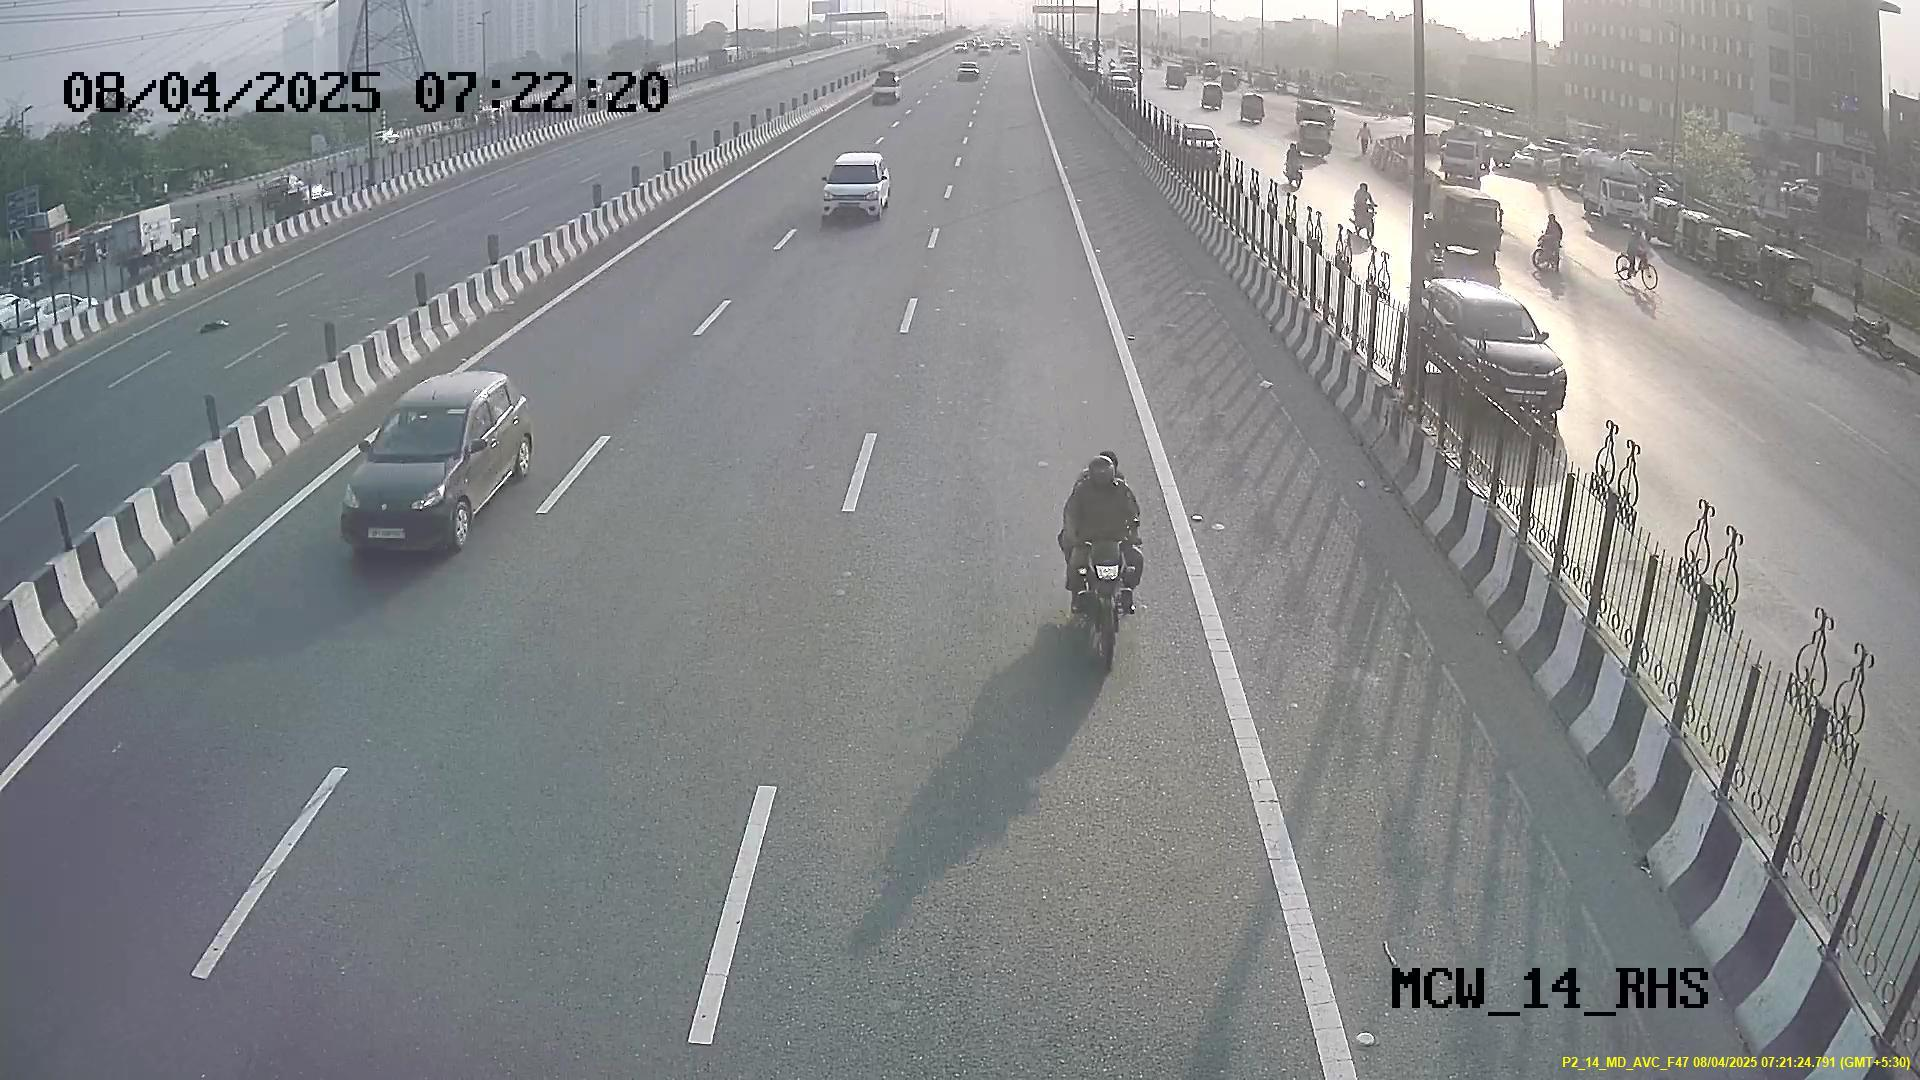bike: (1043, 443, 1151, 678)
car: (345, 385, 492, 562)
